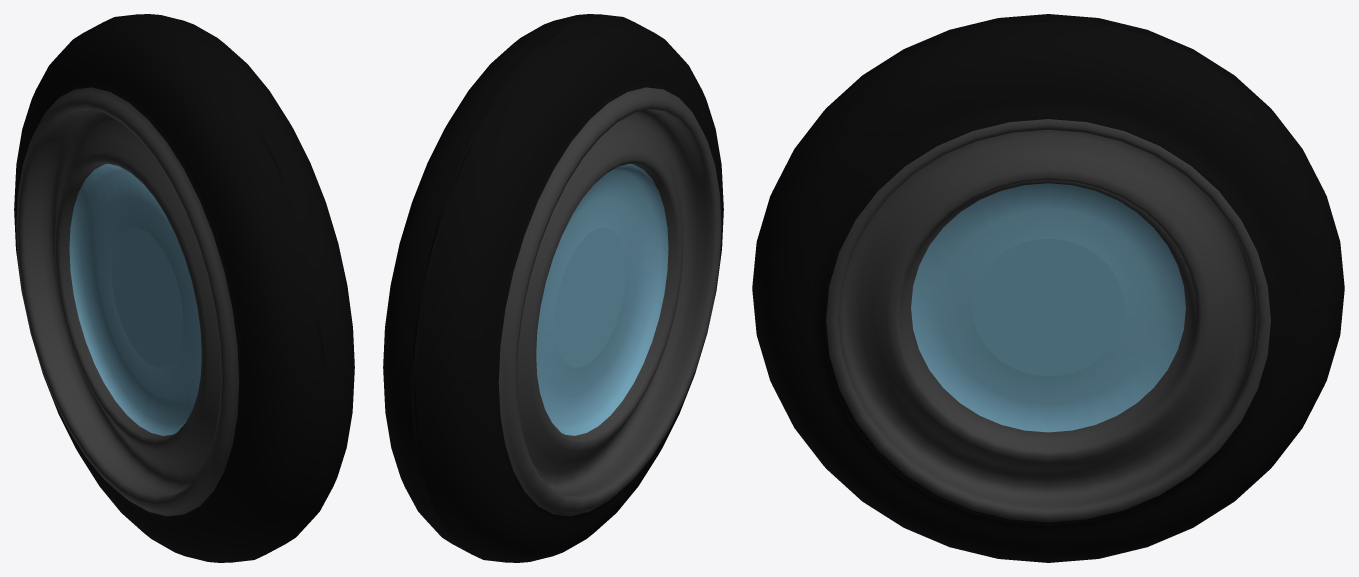
Rendered from FrontWheel_I.FBX.
The picture shows the model from 3 angles, left to right: view 1: azimuth 30°, elevation 25°; view 2: azimuth 150°, elevation 25°; view 3: azimuth 270°, elevation 25°; orthographic projection. The views are drawn at different scales.
Visible parts, largest first — view 1: Bike_F_Wheel; view 2: Bike_F_Wheel; view 3: Bike_F_Wheel.
Part boxes in pixels (bbox=[...]): Bike_F_Wheel: bbox=[14, 14, 354, 562]; Bike_F_Wheel: bbox=[383, 14, 723, 562]; Bike_F_Wheel: bbox=[752, 14, 1344, 562].
Bounding box in the file's own units: 2.46 × 9.32 × 9.32.
